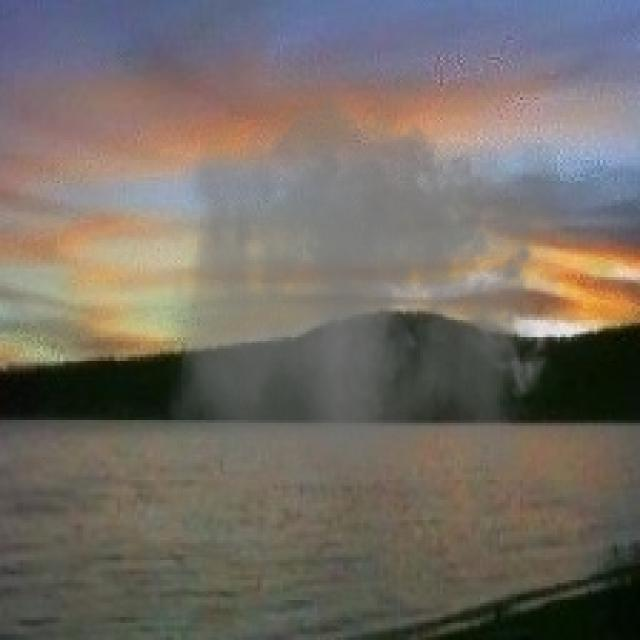Smoke: (168, 74, 560, 494)
